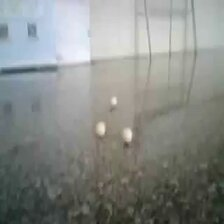tennis: (153, 100, 173, 127), (3, 66, 18, 86), (77, 74, 92, 93), (88, 55, 99, 70)
